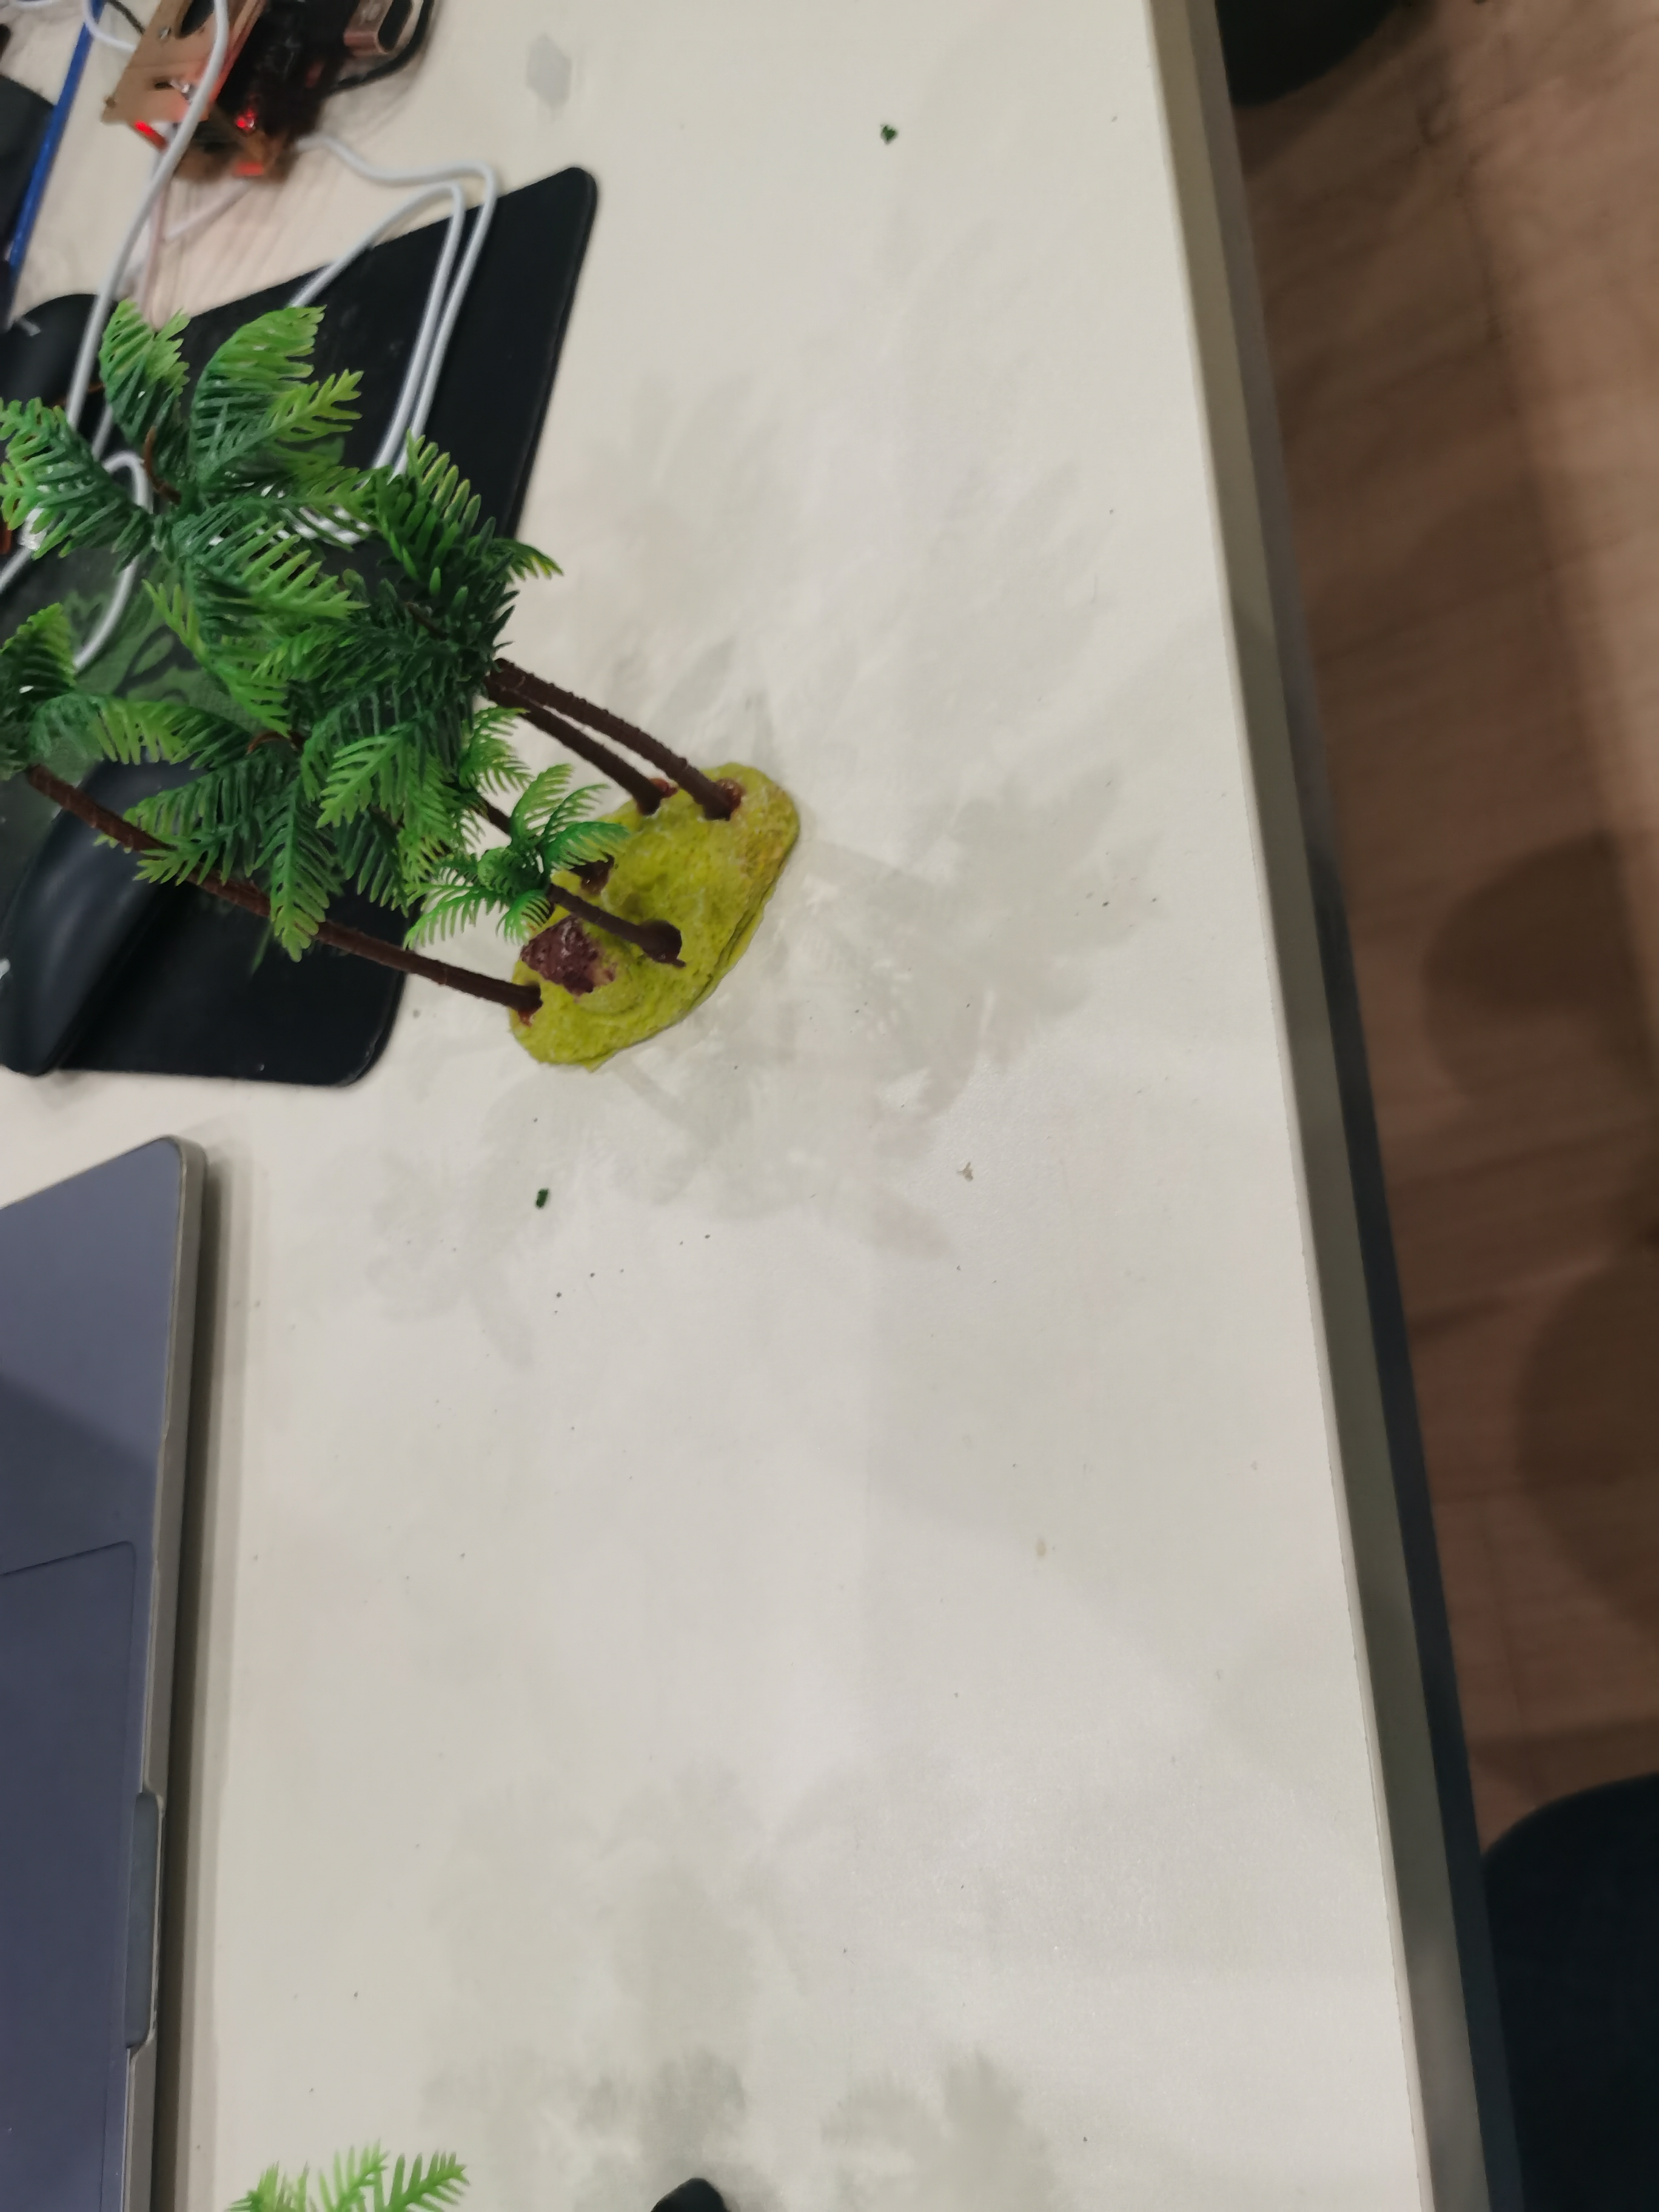corn: (5, 303, 796, 1073)
